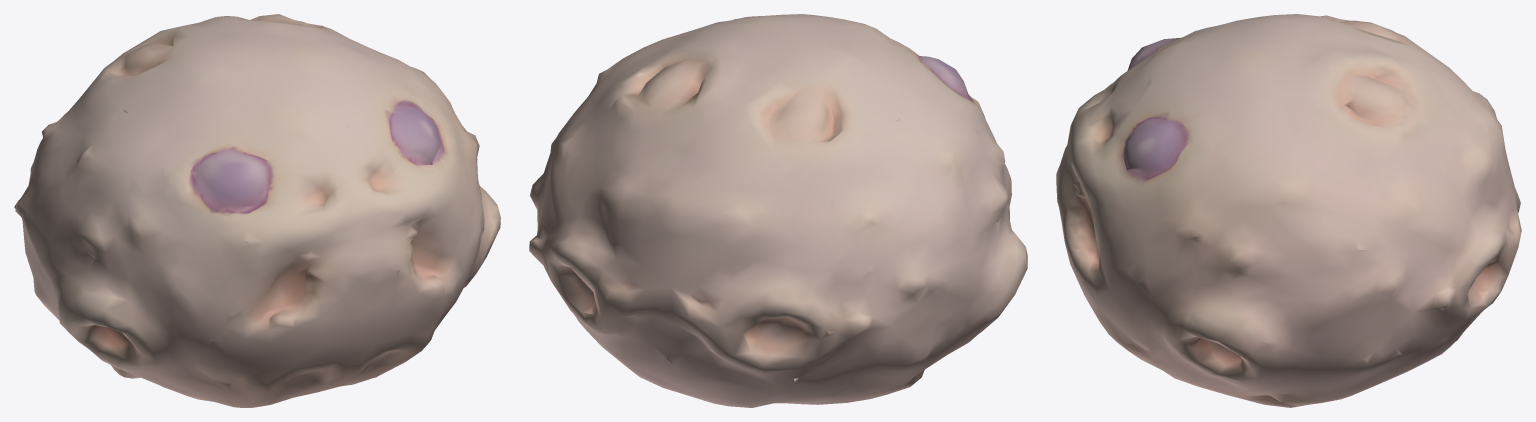
The model's file is neutrophil.glb.
3 views of the same model, side by side, from view 1: azimuth 30°, elevation 25°; view 2: azimuth 150°, elevation 25°; view 3: azimuth 270°, elevation 25° (orthographic). The views are drawn at different scales.
Parts seen in each view (by area): view 1: neutrophil-membrane; view 2: neutrophil-membrane; view 3: neutrophil-membrane.
Part boxes in pixels (x1,y1,x2,y2): neutrophil-membrane: (14, 14, 500, 407); neutrophil-membrane: (529, 14, 1027, 407); neutrophil-membrane: (1056, 14, 1521, 407).
Bounding box in the file's own units: 2.95 × 2.23 × 2.81.
1 material, 1 textured.
